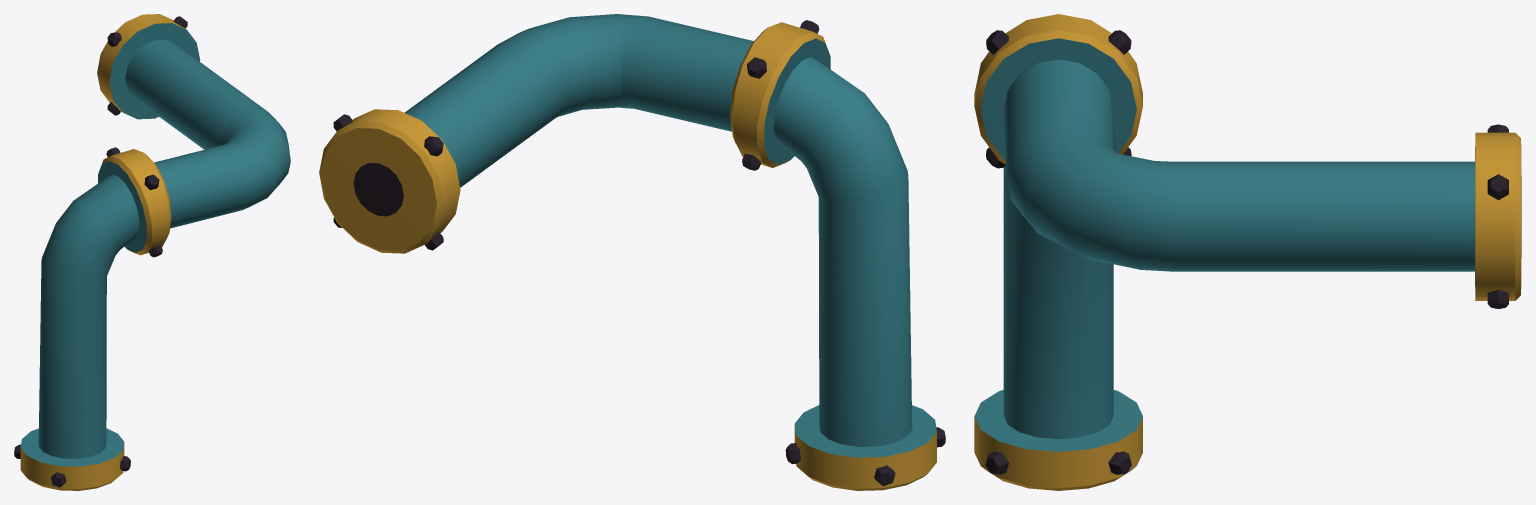
The model's file is PipeRun_17.glb.
3 views of the same model, side by side, from view 1: azimuth 30°, elevation 25°; view 2: azimuth 150°, elevation 25°; view 3: azimuth 270°, elevation 25° (orthographic). The views are drawn at different scales.
Parts seen in each view (by area): view 1: PipeRun_17; view 2: PipeRun_17; view 3: PipeRun_17.
Boxes of the visible parts, x1,y1,x2,y2 form: PipeRun_17: [14, 14, 290, 490]; PipeRun_17: [319, 14, 945, 490]; PipeRun_17: [974, 14, 1521, 490].
Size of the model in its own units: 3.65 by 3.46 by 3.55.
